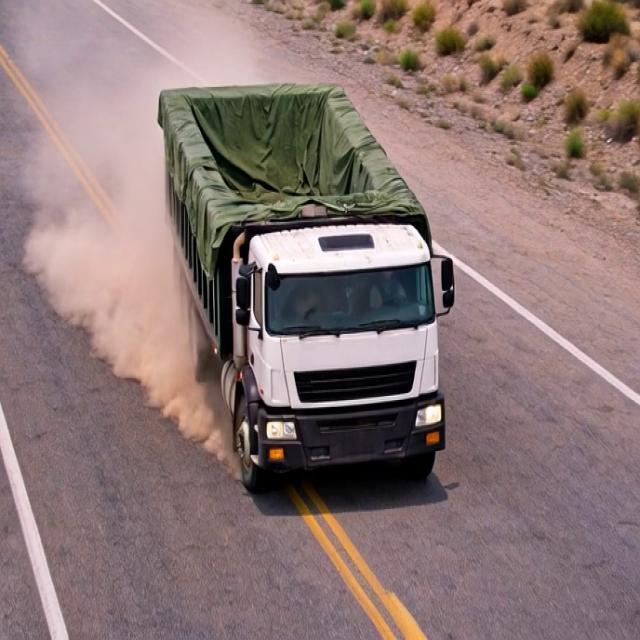Box: (150, 80, 428, 240)
Truck: (131, 42, 461, 486)
